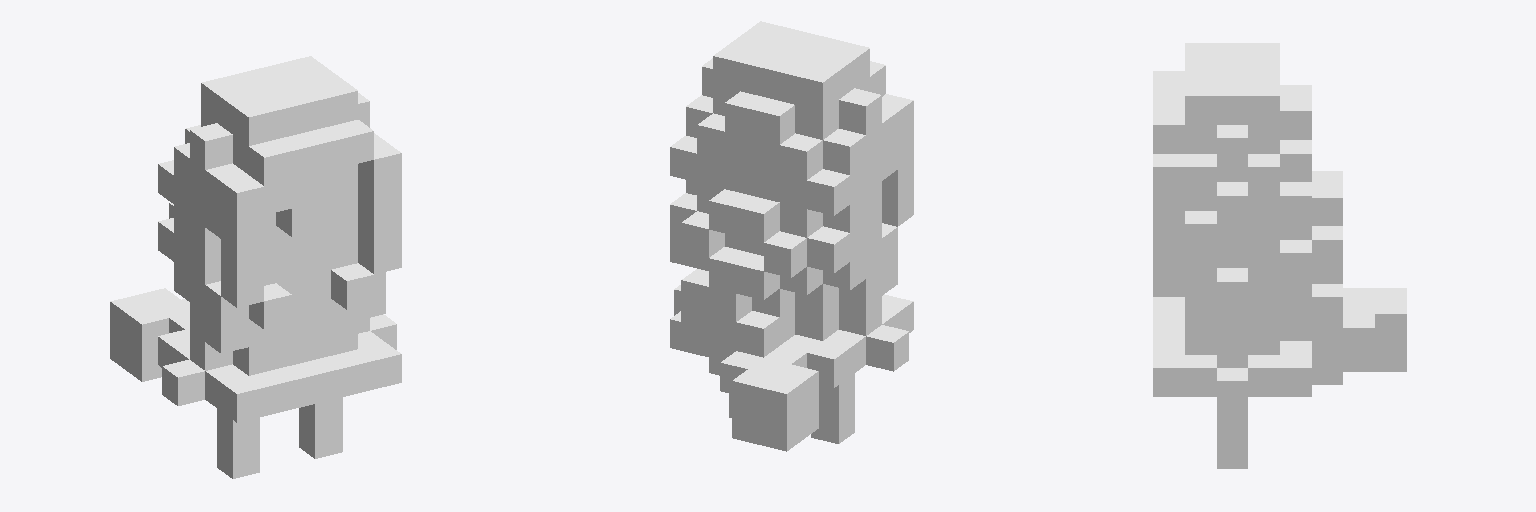
The model's file is hero_hands.obj.
3 renders of one model, left to right at view 1: azimuth 30°, elevation 25°; view 2: azimuth 150°, elevation 25°; view 3: azimuth 270°, elevation 25°, orthographic.
Parts seen in each view (by area): view 1: object 1; view 2: object 1; view 3: object 1.
Boxes of the visible parts, box(x1,y1,x2,y2) form: object 1: box(110, 56, 401, 478); object 1: box(670, 21, 913, 451); object 1: box(1153, 43, 1406, 468).
Bounding box in the file's own units: 0.8 × 1.3 × 0.8.